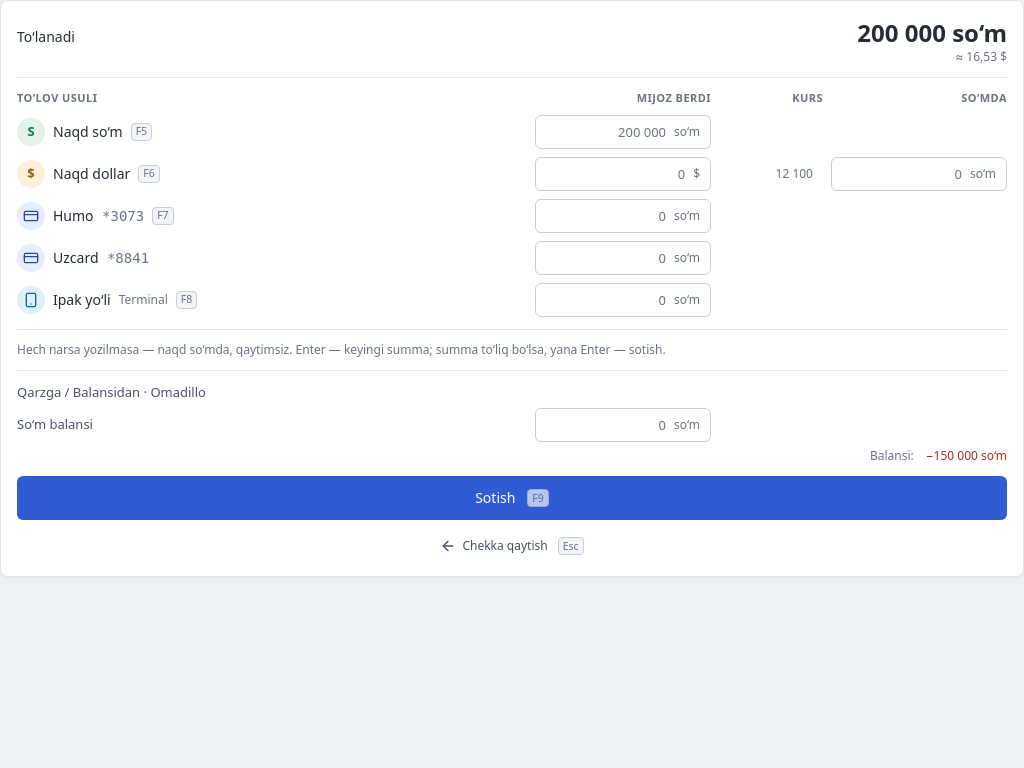
the change › is kept on the balance or lent there, never both: paid over, nothing is left to lend
This screenshot has width=1024, height=768.
Not all of it paid: what is left may go on the account.
Type "100000" into the field with placeholder "200 000".
click(603, 132); type("100000")  # box [536,116,670,148]
Then press Tab
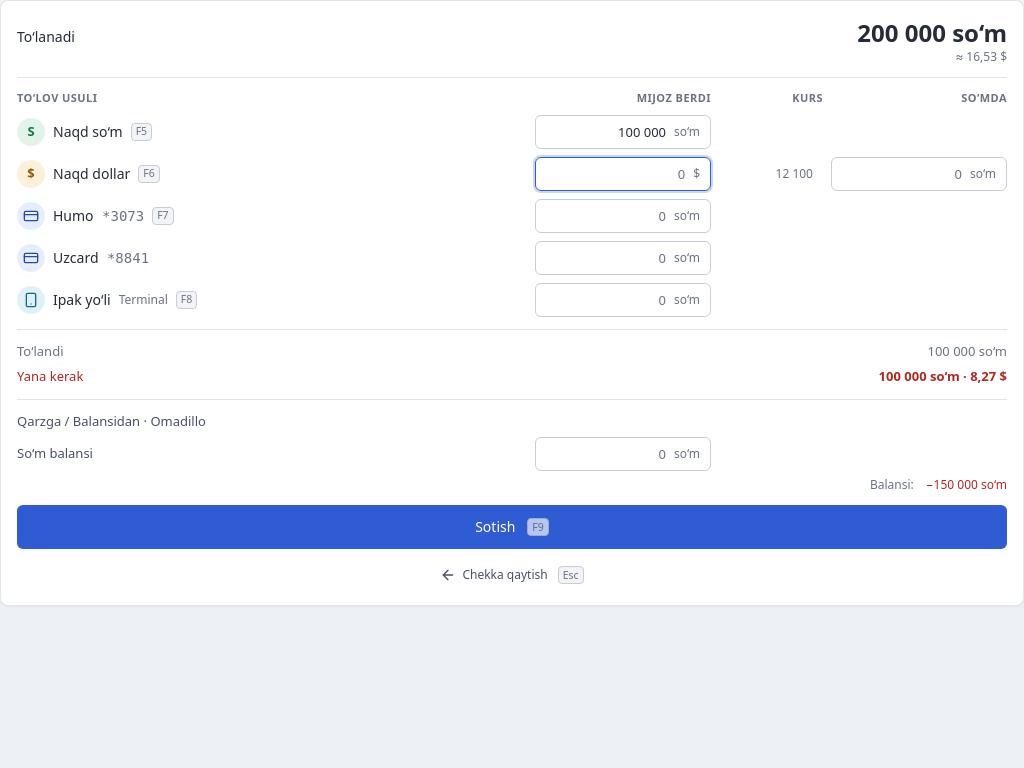
expect the element that starts with "Qarzga / Balansidan" is shown: met, box [17,398,1007,493]
Paid over: what is over may stay there, and there is nothing to lend.
Replace the text in the 1st field with "300000" at coordinates (603, 132), box [536,116,670,148]
Then press Tab
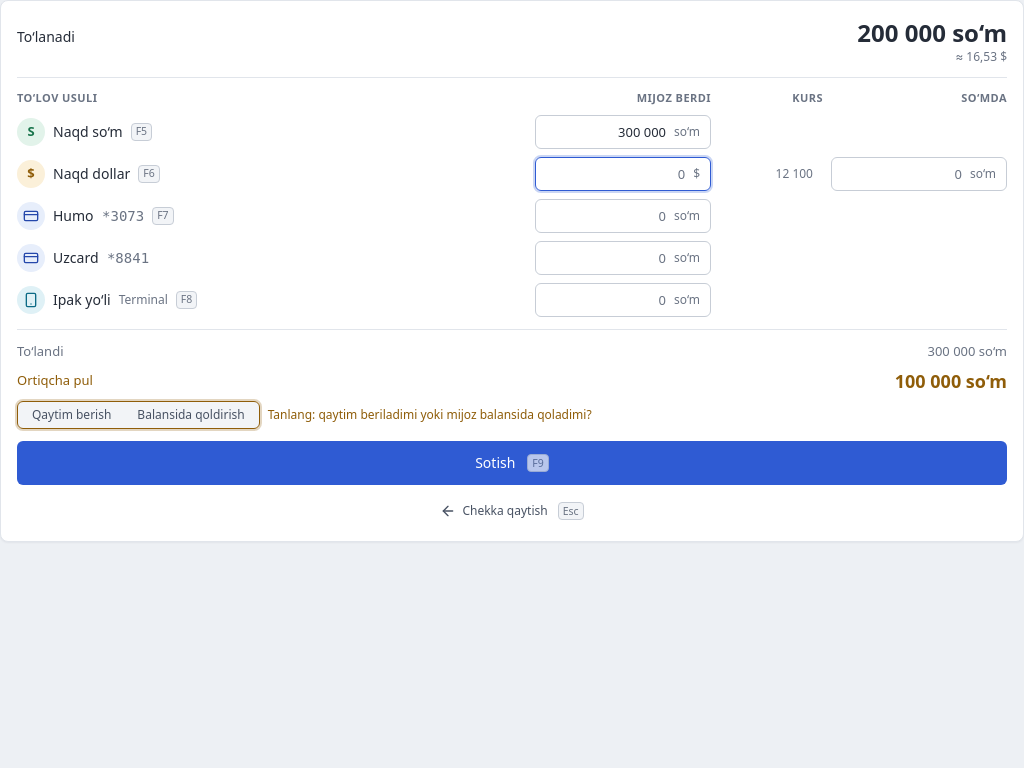
expect the radio button "Balansida qoldirish" is shown: met, box [125,404,257,426]
